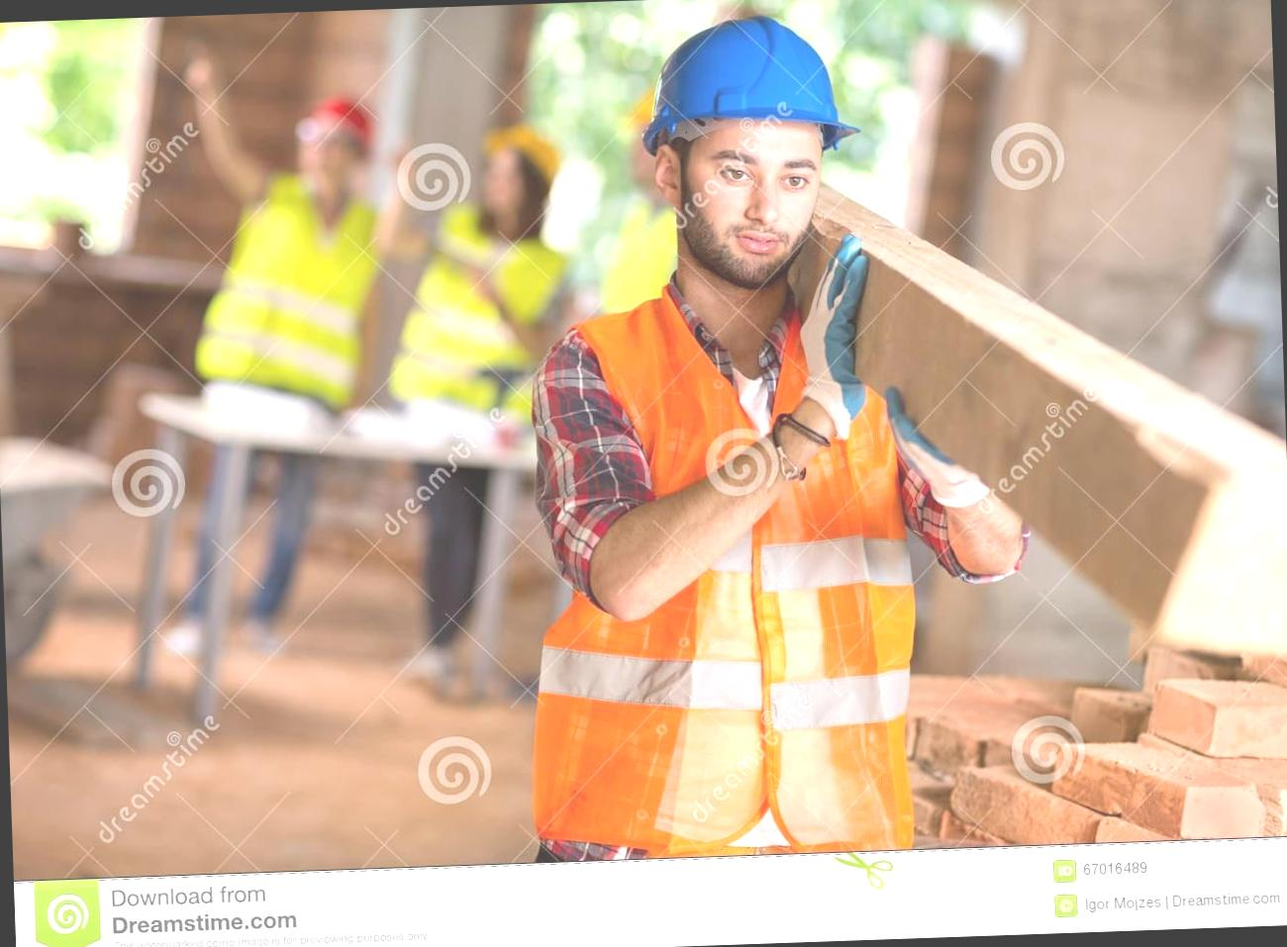helmet: (626, 9, 864, 167)
person: (500, 7, 1004, 871)
